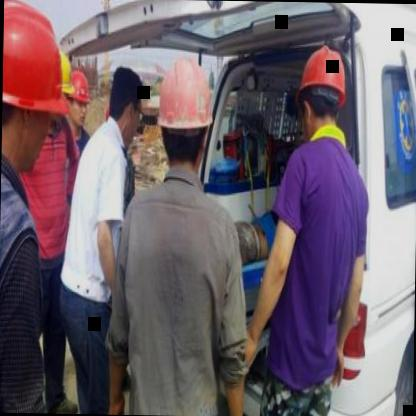head: (105, 66, 150, 146)
helmet: (1, 9, 66, 174), (152, 52, 218, 177), (292, 39, 350, 146), (64, 68, 92, 128)
